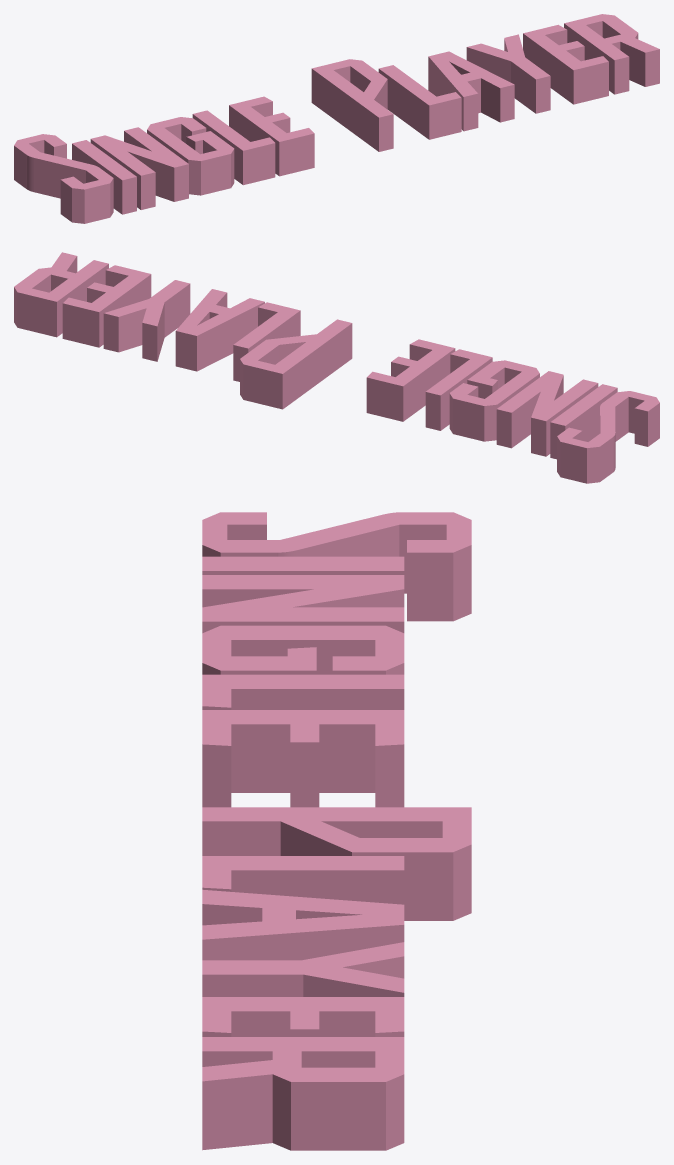
Rendered from single_player.obj.
3 views of the same model, one above another, from view 1: azimuth 30°, elevation 25°; view 2: azimuth 150°, elevation 25°; view 3: azimuth 270°, elevation 25° (orthographic). The views are drawn at different scales.
Parts seen in each view (by area): view 1: Text001; view 2: Text001; view 3: Text001.
Boxes of the visible parts, x1,y1,x2,y2 form: Text001: (14,14,659,223); Text001: (14,252,659,483); Text001: (202,512,471,1150).
Bounding box in the file's own units: 107 × 6 × 21.29.
